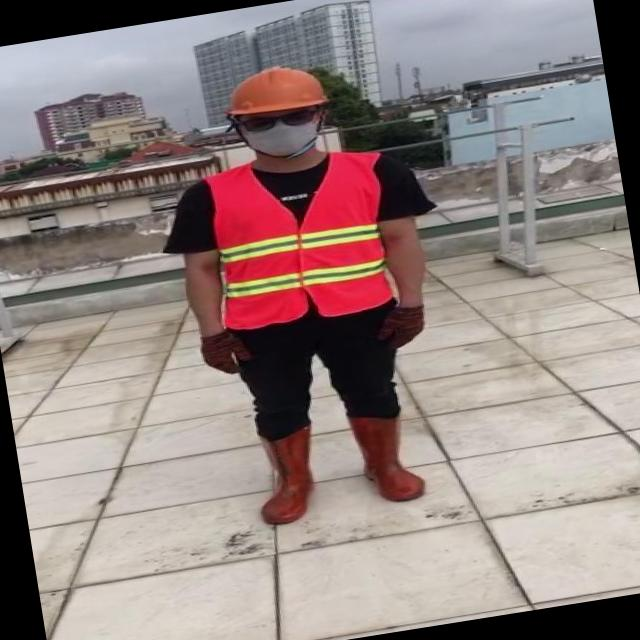boots: (246, 424, 330, 527), (344, 407, 424, 508)
gloves: (334, 274, 439, 370), (168, 308, 245, 402)
helmet: (218, 58, 329, 122)
vest: (202, 144, 400, 334)
